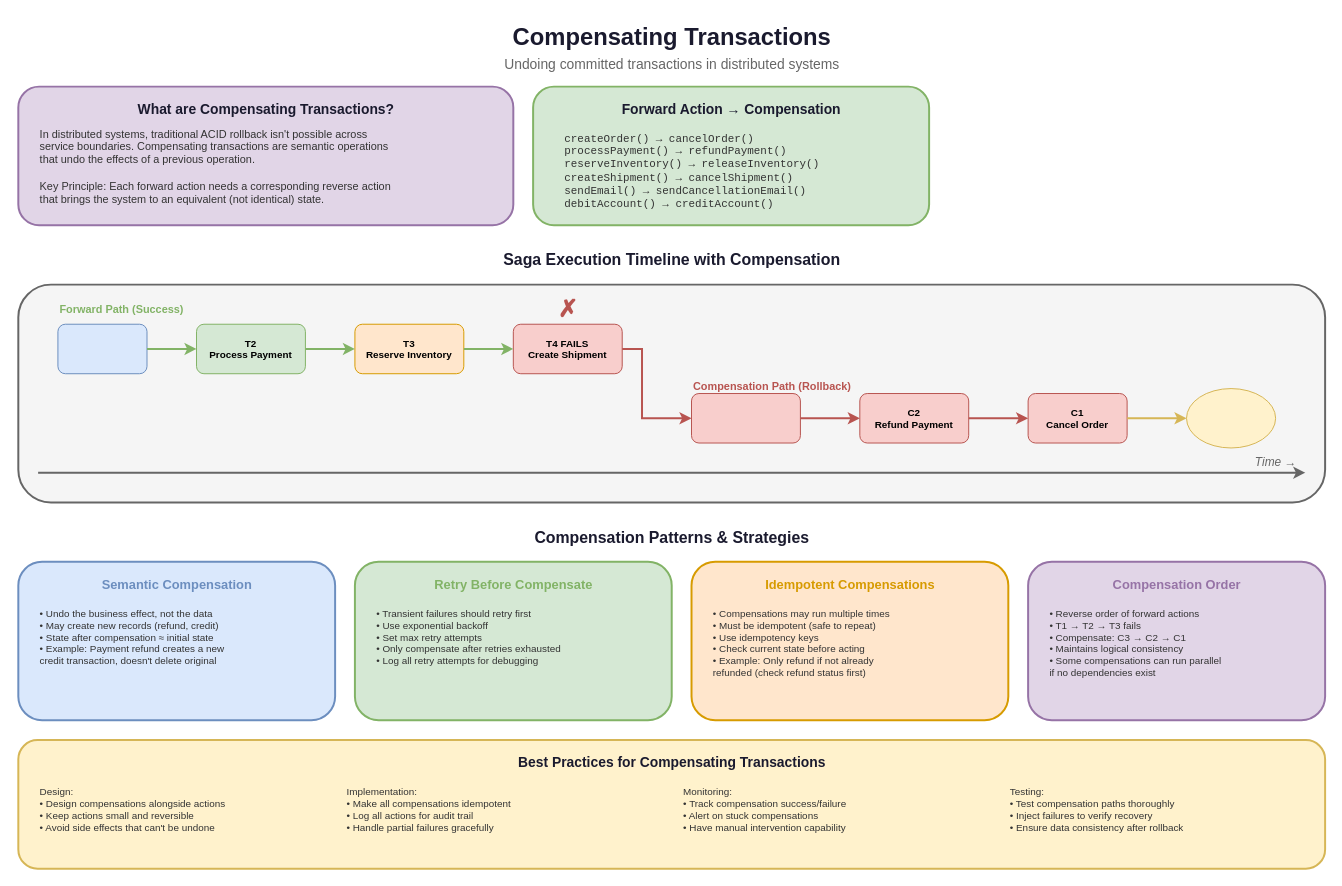
The diagram is 1342 pixels wide and 886 high, and some of its shapes have lost their labels. Each missing label, with the box of its shape:
C3 Release Inventory: (691, 393, 800, 443)
Saga Completed (Compensated): (1186, 388, 1276, 448)
T1 Create Order: (57, 323, 147, 374)
